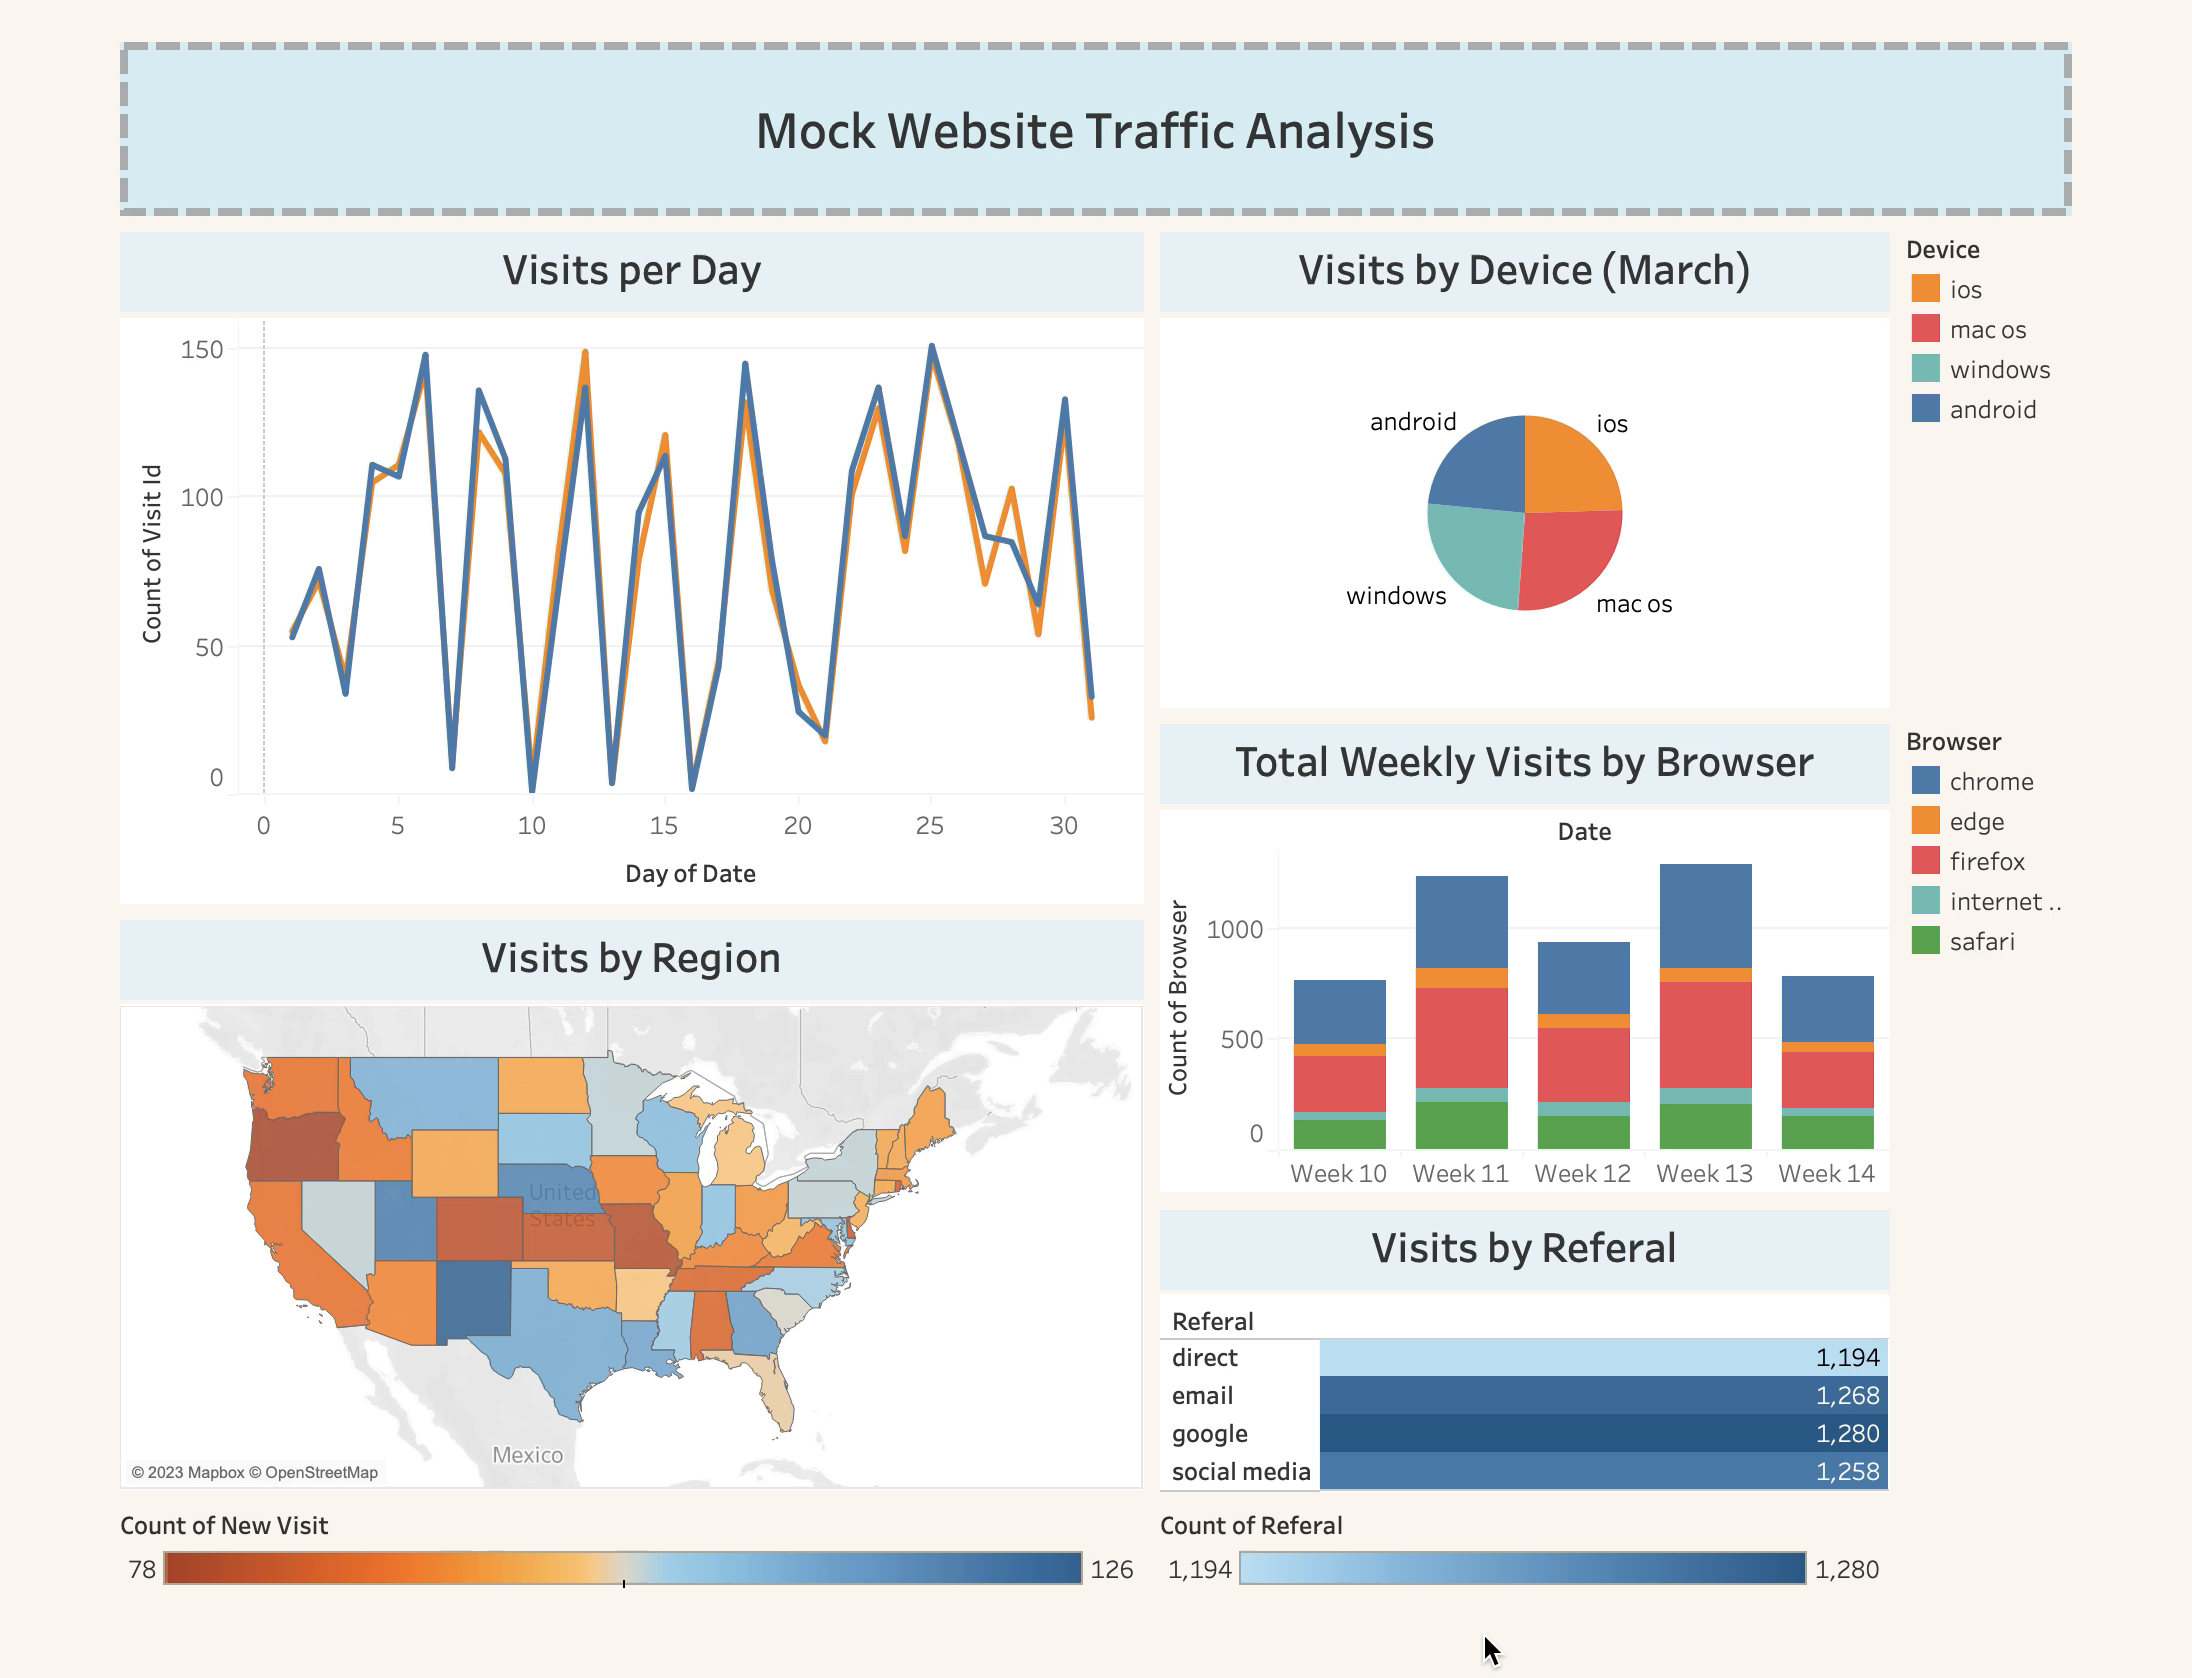

The page's visual inventory and layout, read from the dashboard file:
{"tool":"tableau","page":{"name":"Mock Website Traffic Analysis","canvas":[1000,800],"ordinal":0},"visuals":[{"type":"title","box":[8,8,984,95]},{"type":"worksheet","title":"Visits per Day","mark":"Automatic","rows":["visit_id"],"cols":["date"],"box":[8,103,520,344.5]},{"type":"worksheet","title":"Visits by Device (March)","mark":"Pie","box":[528,103,373,246.4]},{"type":"legend","title":"Visits by Device (March)","param":"[federated.0dkhvu31nbbzwf17grjvb049fve6].[none:device:nk]","box":[901,103,91,246.4]},{"type":"worksheet","title":"Total Weekly Visits by Browser","mark":"Bar","rows":["browser"],"cols":["date"],"box":[528,349.4,373,242.2]},{"type":"legend","title":"Total Weekly Visits by Browser","param":"[federated.0dkhvu31nbbzwf17grjvb049fve6].[none:browser:nk]","box":[901,349.4,91,442.6]},{"type":"worksheet","title":"Visits by Region","mark":"Multipolygon","box":[8,447.5,520,293.3]},{"type":"worksheet","title":"Visits by Referal","mark":"Square","rows":["referal"],"box":[528,591.6,373,149.3]},{"type":"legend","title":"Visits by Region","param":"[federated.0dkhvu31nbbzwf17grjvb049fve6].[cnt:new visit:qk]","box":[8,740.8,520,51.2]},{"type":"legend","title":"Visits by Referal","param":"[federated.0dkhvu31nbbzwf17grjvb049fve6].[cnt:referal:qk]","box":[528,740.8,373,51.2]}]}

Visuals, with their boxes on the page's 1000x800 design canvas (x1, y1, x2, y2). These are canvas units, not pixel positions in the 2192x1678 screenshot, which may show the page scaled, cropped or inside an application window:
title: left=8, top=8, right=992, bottom=103
"Visits per Day" worksheet: left=8, top=103, right=528, bottom=448
"Visits by Device (March)" worksheet (Pie marks): left=528, top=103, right=901, bottom=349
"Visits by Device (March)" legend: left=901, top=103, right=992, bottom=349
"Total Weekly Visits by Browser" worksheet (Bar marks): left=528, top=349, right=901, bottom=592
"Total Weekly Visits by Browser" legend: left=901, top=349, right=992, bottom=792
"Visits by Region" worksheet (Multipolygon marks): left=8, top=448, right=528, bottom=741
"Visits by Referal" worksheet (Square marks): left=528, top=592, right=901, bottom=741
"Visits by Region" legend: left=8, top=741, right=528, bottom=792
"Visits by Referal" legend: left=528, top=741, right=901, bottom=792
